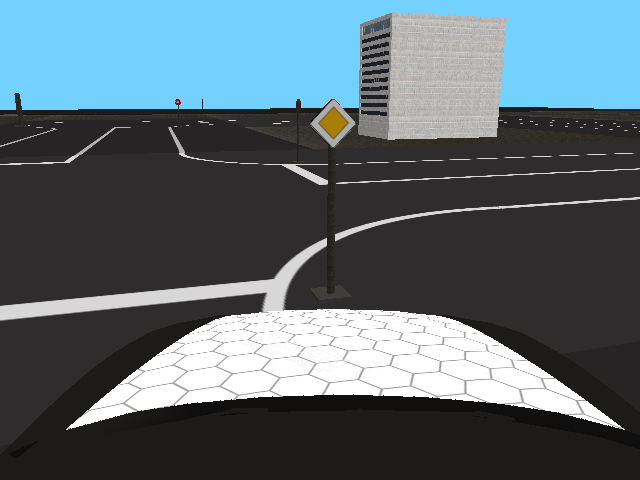priority: (310, 98, 356, 149)
